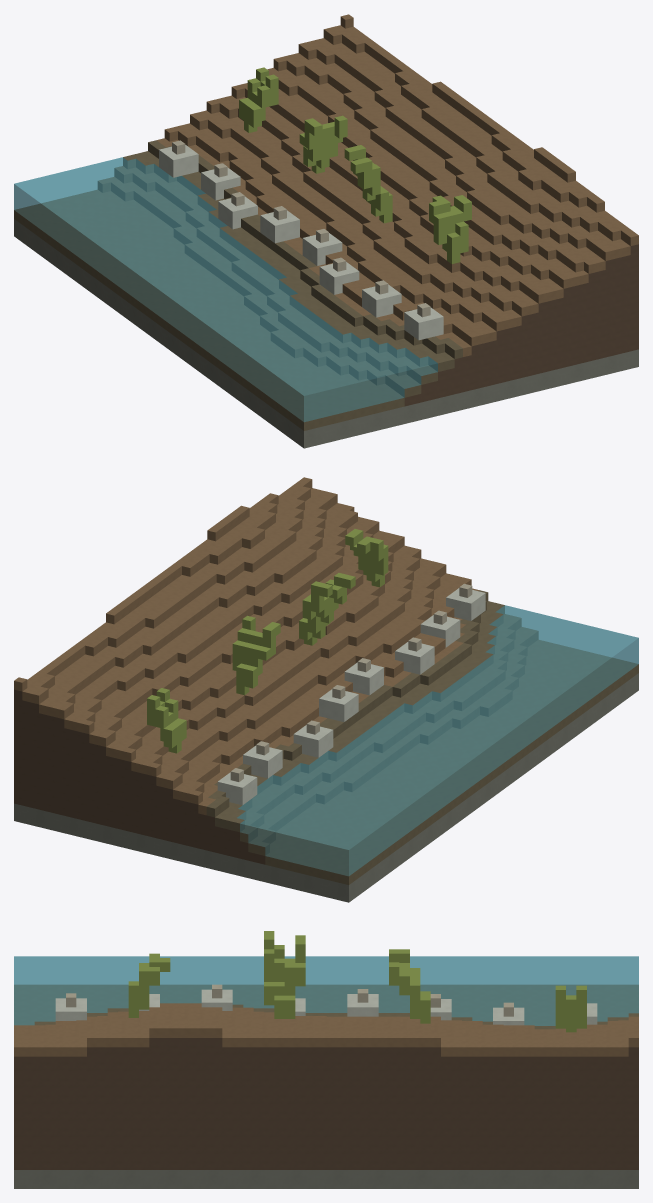
3 views of the same model, one above another, from view 1: azimuth 30°, elevation 25°; view 2: azimuth 150°, elevation 25°; view 3: azimuth 270°, elevation 25° (orthographic). The views are drawn at different scales.
Parts seen in each view (by area): view 1: 自然缓岸与陡岸断面族; view 2: 自然缓岸与陡岸断面族; view 3: 自然缓岸与陡岸断面族.
Part boxes in pixels (x1,y1,x2,y2): 自然缓岸与陡岸断面族: (14, 14, 638, 448); 自然缓岸与陡岸断面族: (14, 477, 638, 902); 自然缓岸与陡岸断面族: (14, 931, 638, 1188).
Size of the model in its own units: 8 by 3.6 by 12.
8 materials, 7 textured.
